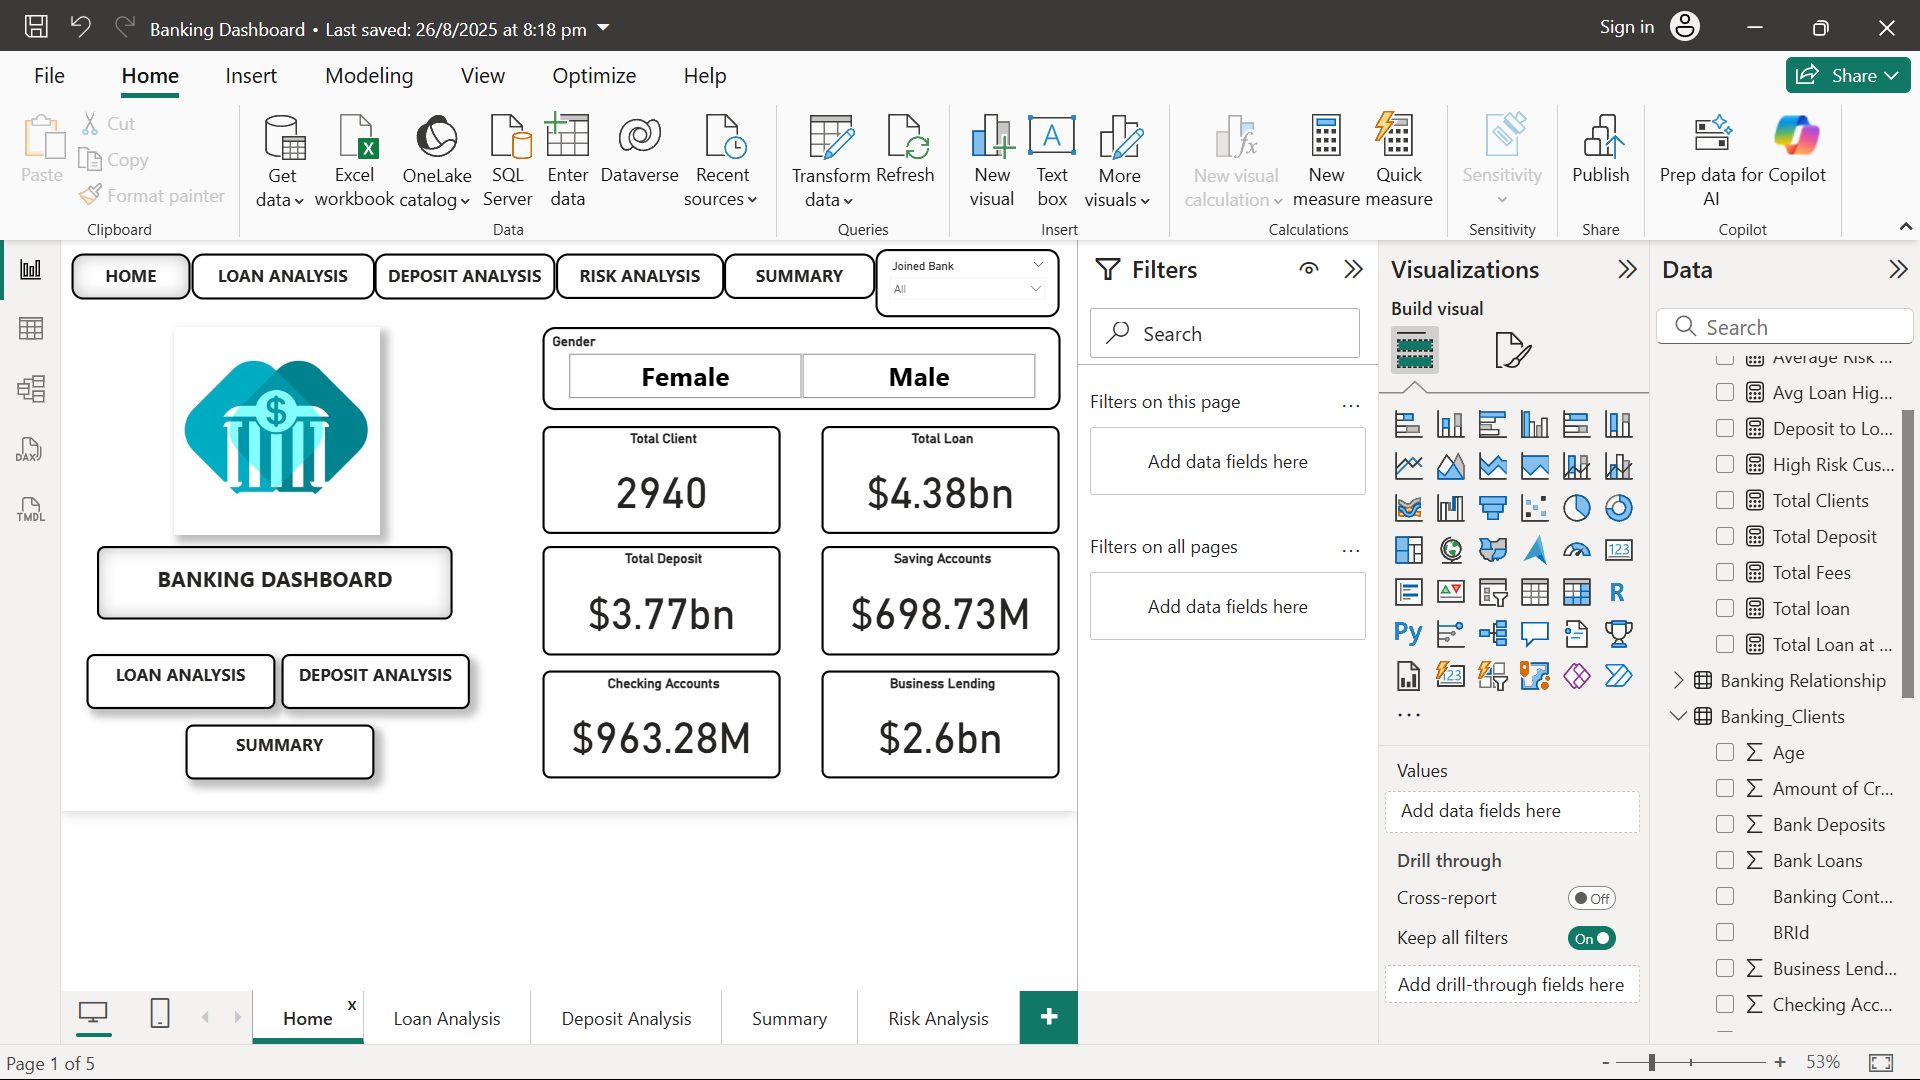

This screenshot's page, from the dashboard's own definition file:
{"tool":"powerbi","page":{"name":"Home","canvas":[1280,720],"ordinal":0},"visuals":[{"type":"image","box":[140.8,109,260.4,262],"z":0},{"type":"textbox","box":[45.4,384.6,448.2,92.4],"z":1000},{"type":"textbox","box":[31.8,520.9,237.7,69.7],"z":2000},{"type":"textbox","box":[157.5,610.2,237.7,69.7],"z":3000},{"type":"card","title":"Total Client","fields":{"Values":["Module.Total Clients"]},"box":[605.7,234.7,299.8,136.3],"z":4000},{"type":"slicer","title":"Gender","fields":{"Values":["Gender.Gender"]},"box":[605.7,109,652.6,104.5],"z":5000},{"type":"card","title":"Total Loan","fields":{"Values":["Module.Total loan"]},"box":[958.5,234.7,299.8,136.3],"z":6000},{"type":"card","title":"Total Deposit","fields":{"Values":["Module.Total Deposit"]},"box":[605.7,384.6,299.8,137.8],"z":7000},{"type":"card","title":"Saving Accounts","fields":{"Values":["Sum(Banking_Clients.Saving Accounts)"]},"box":[958.5,384.6,299.8,137.8],"z":8000},{"type":"card","title":"Checking Accounts","fields":{"Values":["Sum(Banking_Clients.Checking Accounts)"]},"box":[605.7,542.1,299.8,136.3],"z":9000},{"type":"card","title":"Business Lending","fields":{"Values":["Sum(Banking_Clients.Business Lending)"]},"box":[958.5,542.1,299.8,136.3],"z":10000},{"type":"textbox","box":[278.6,520.9,237,69.7],"z":12000},{"type":"textbox","box":[13.6,16.7,150,58],"z":13000},{"type":"textbox","box":[163.5,16.7,231,58],"z":14000},{"type":"textbox","box":[395.2,16.7,228,58],"z":15000},{"type":"textbox","box":[835.8,16.7,190.8,57.5],"z":16000},{"type":"actionButton","box":[163.5,16.7,231.7,57.5],"z":17000},{"type":"actionButton","box":[396.7,16.7,227.1,57.5],"z":18000},{"type":"actionButton","box":[838.9,16.7,187.8,57.5],"z":19000},{"type":"actionButton","box":[31.8,522.4,237.7,68.1],"z":20000},{"type":"actionButton","box":[281.6,520.9,228.6,69.7],"z":21000},{"type":"actionButton","box":[163.5,610.2,231.7,68.1],"z":22000},{"type":"textbox","box":[623.9,16.7,212,57.5],"z":22001},{"type":"actionButton","box":[623.9,16.7,212,57.5],"z":22002},{"type":"slicer","fields":{"Values":["Banking_Clients.Joined Bank"]},"box":[1026.6,12.1,231.7,86.3],"z":22003}]}

Visuals, with their boxes on the page's 1280x720 design canvas (x1, y1, x2, y2). These are canvas units, not pixel positions in the 1920x1080 screenshot, which may show the page scaled, cropped or inside an application window:
image: Rect(141, 109, 401, 371)
textbox: Rect(45, 385, 494, 477)
textbox: Rect(32, 521, 270, 591)
textbox: Rect(158, 610, 395, 680)
"Total Client" card: Rect(606, 235, 906, 371)
"Gender" slicer: Rect(606, 109, 1258, 214)
"Total Loan" card: Rect(958, 235, 1258, 371)
"Total Deposit" card: Rect(606, 385, 906, 522)
"Saving Accounts" card: Rect(958, 385, 1258, 522)
"Checking Accounts" card: Rect(606, 542, 906, 678)
"Business Lending" card: Rect(958, 542, 1258, 678)
textbox: Rect(279, 521, 516, 591)
textbox: Rect(14, 17, 164, 75)
textbox: Rect(164, 17, 394, 75)
textbox: Rect(395, 17, 623, 75)
textbox: Rect(836, 17, 1027, 74)
actionButton: Rect(164, 17, 395, 74)
actionButton: Rect(397, 17, 624, 74)
actionButton: Rect(839, 17, 1027, 74)
actionButton: Rect(32, 522, 270, 590)
actionButton: Rect(282, 521, 510, 591)
actionButton: Rect(164, 610, 395, 678)
textbox: Rect(624, 17, 836, 74)
actionButton: Rect(624, 17, 836, 74)
slicer - Banking_Clients.Joined Bank: Rect(1027, 12, 1258, 98)
